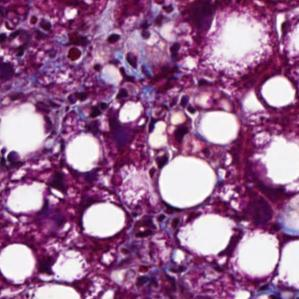inflammation: (102, 31, 159, 86), (144, 126, 191, 178), (149, 0, 181, 28)
